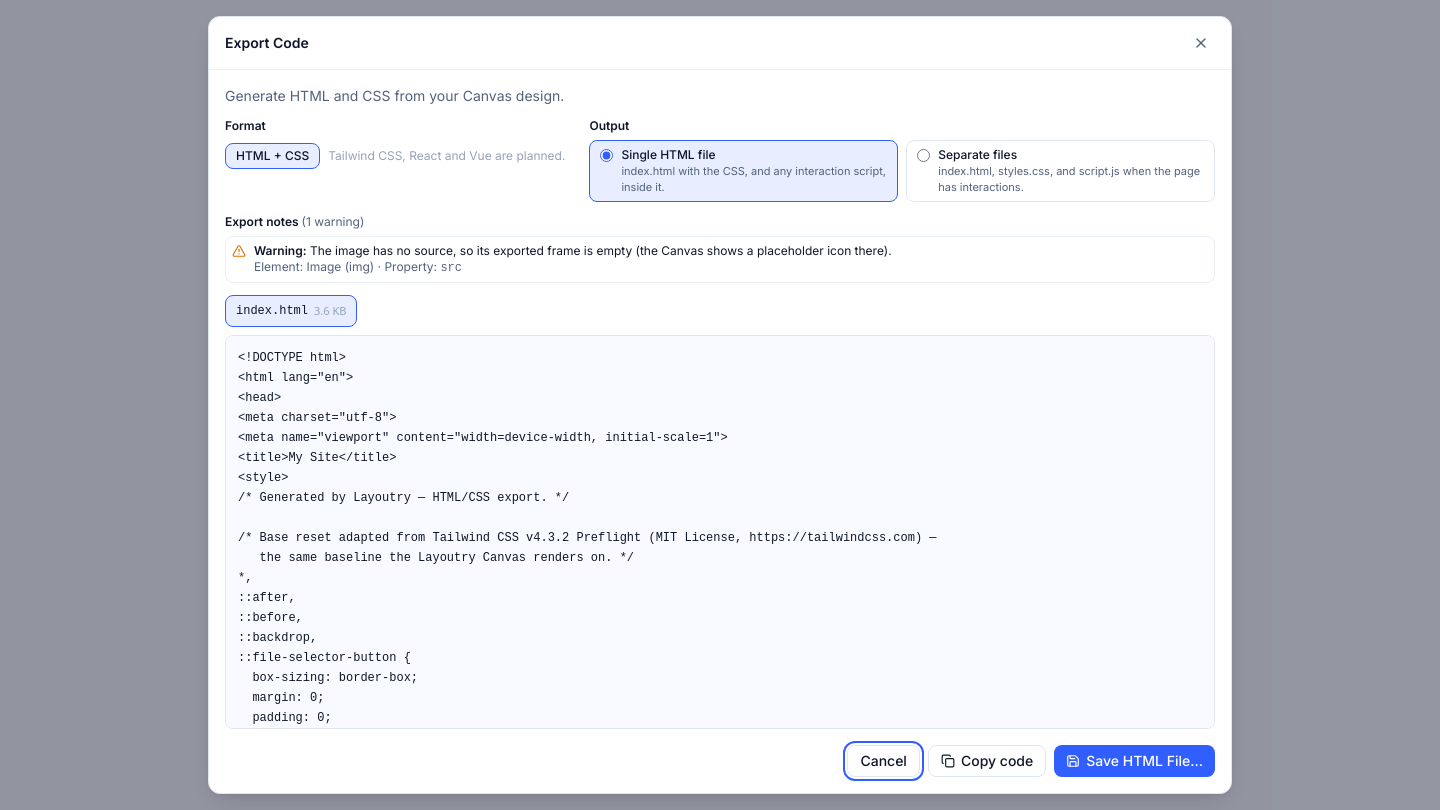
ExportCodeDialog — desktop saving › asks before replacing existing files and replaces them only on confirmation
The width and height of the screenshot is (1440, 810).
Click the button "Save HTML File…" at (1135, 761), box x1=1054 y1=745 x2=1215 y2=777
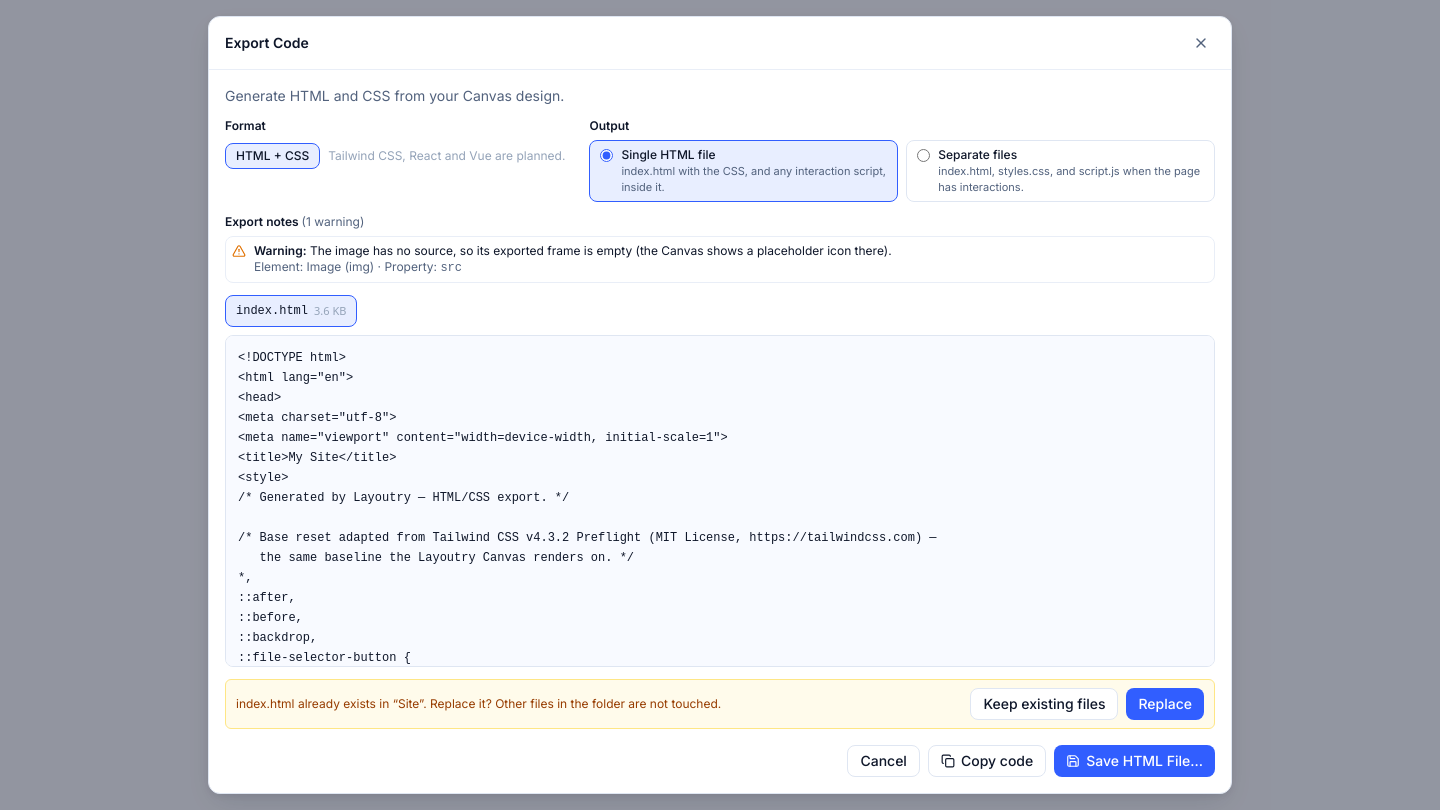
expect the dialog shows "index.html already exists in “Site”. Replace it?": met, box x1=225 y1=679 x2=1215 y2=729
Click the button "Replace" at (1165, 704), box x1=1126 y1=688 x2=1204 y2=720
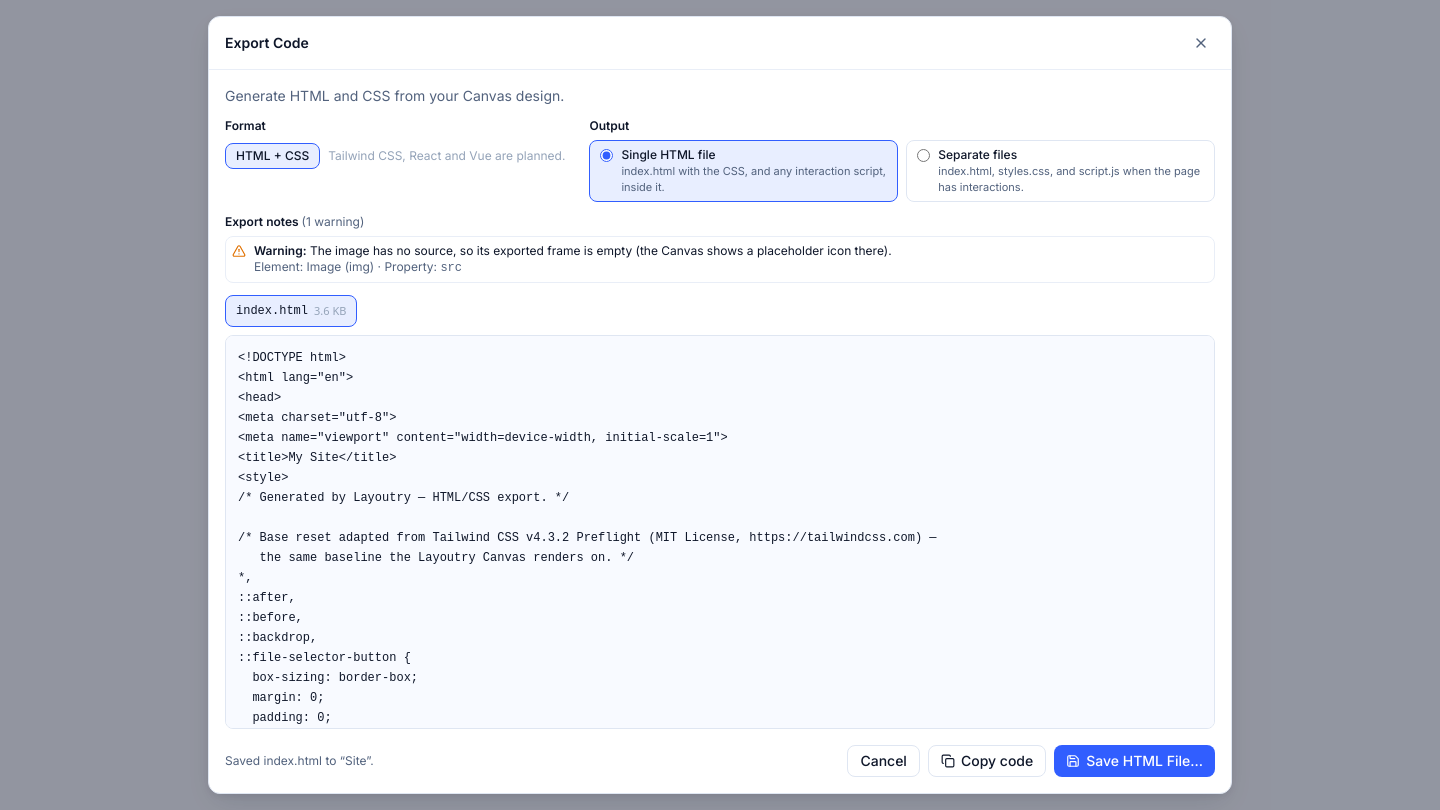
expect the text "Saved index.html to “Site”." is shown: met, box x1=225 y1=753 x2=374 y2=768
